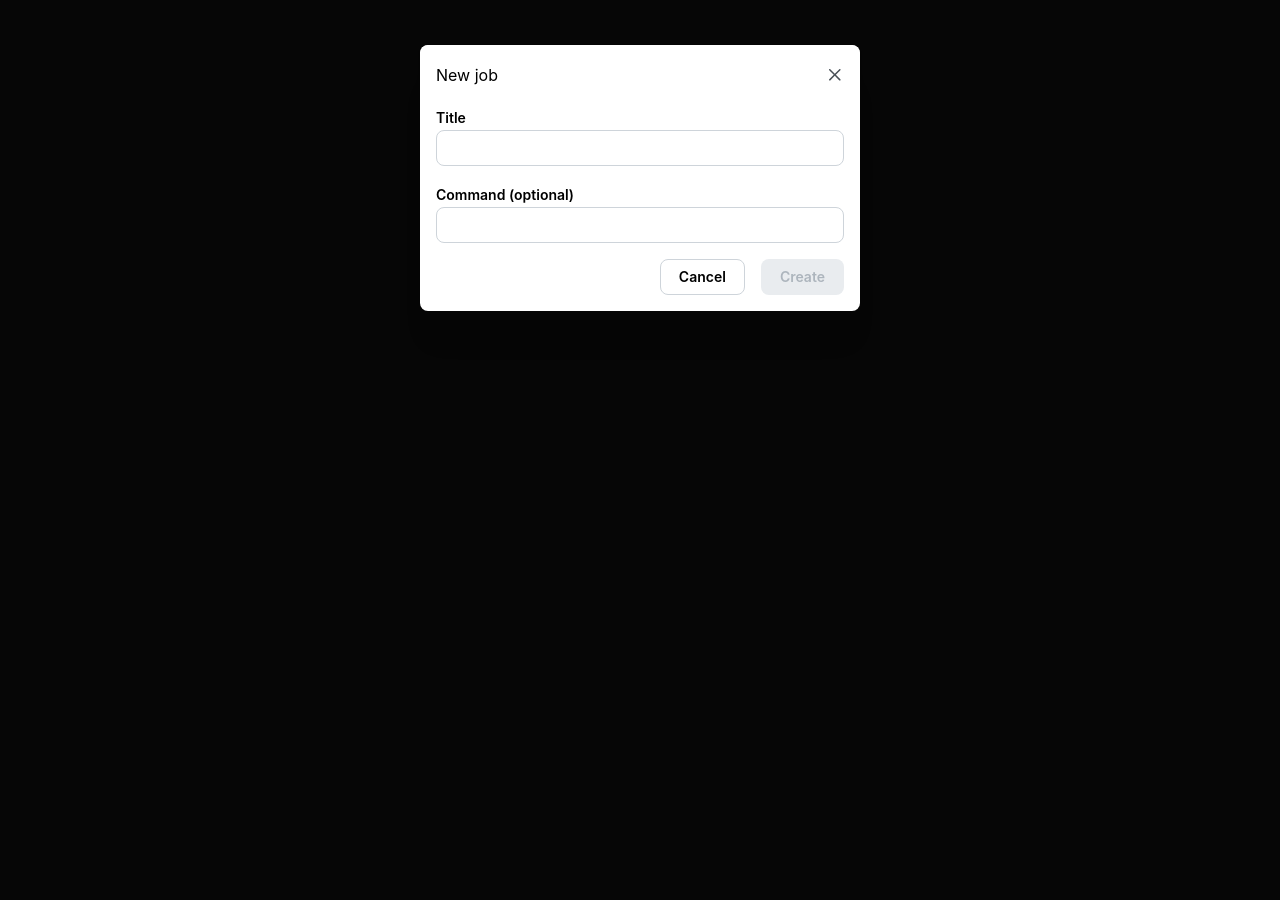
it: NewJobModal › shows a visible error message when creation fails with a 400
Type "Build" into the field labelled "Title" at (640, 148), box left=436, top=130, right=844, bottom=166
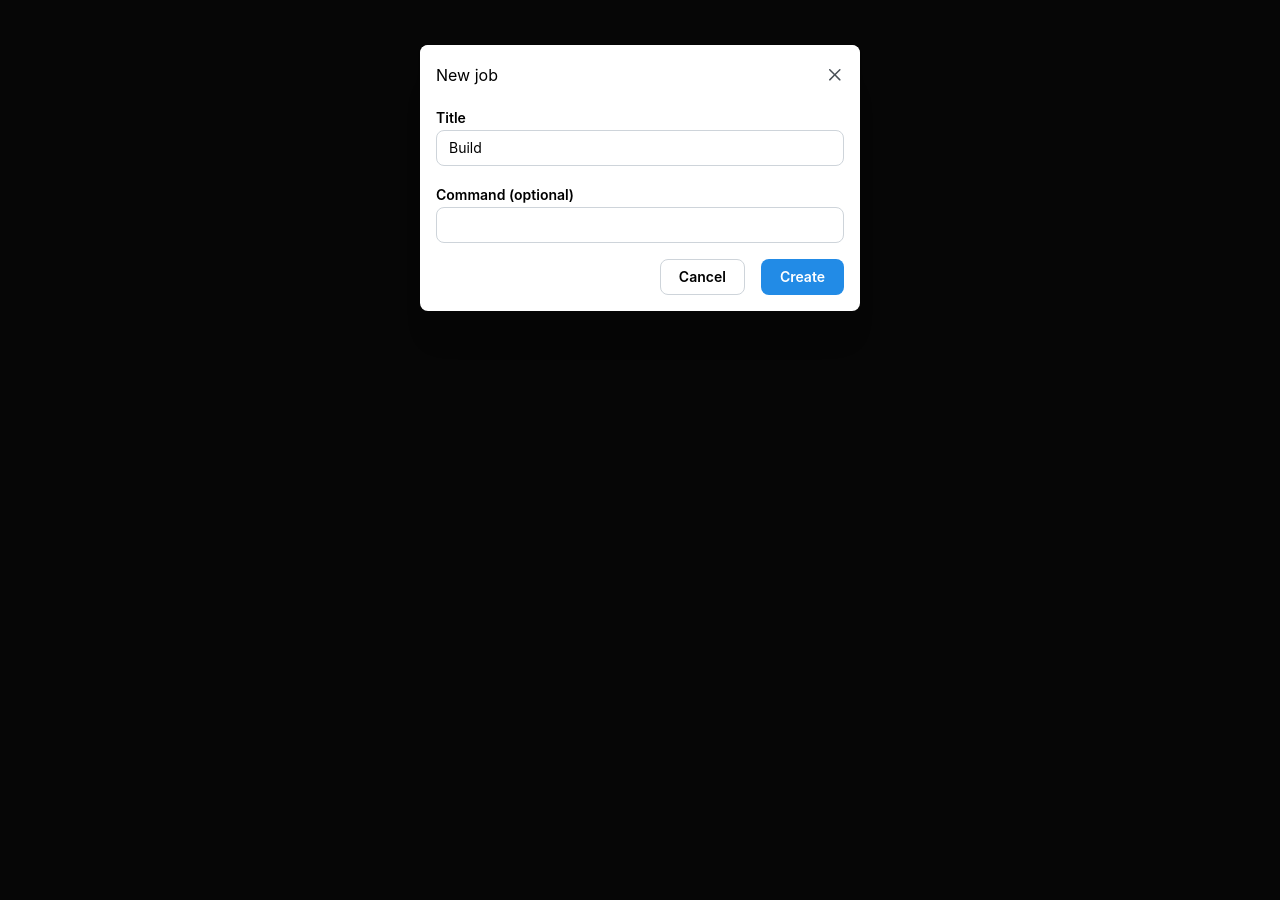
Click the button "Create" at (802, 277), box left=761, top=259, right=844, bottom=295
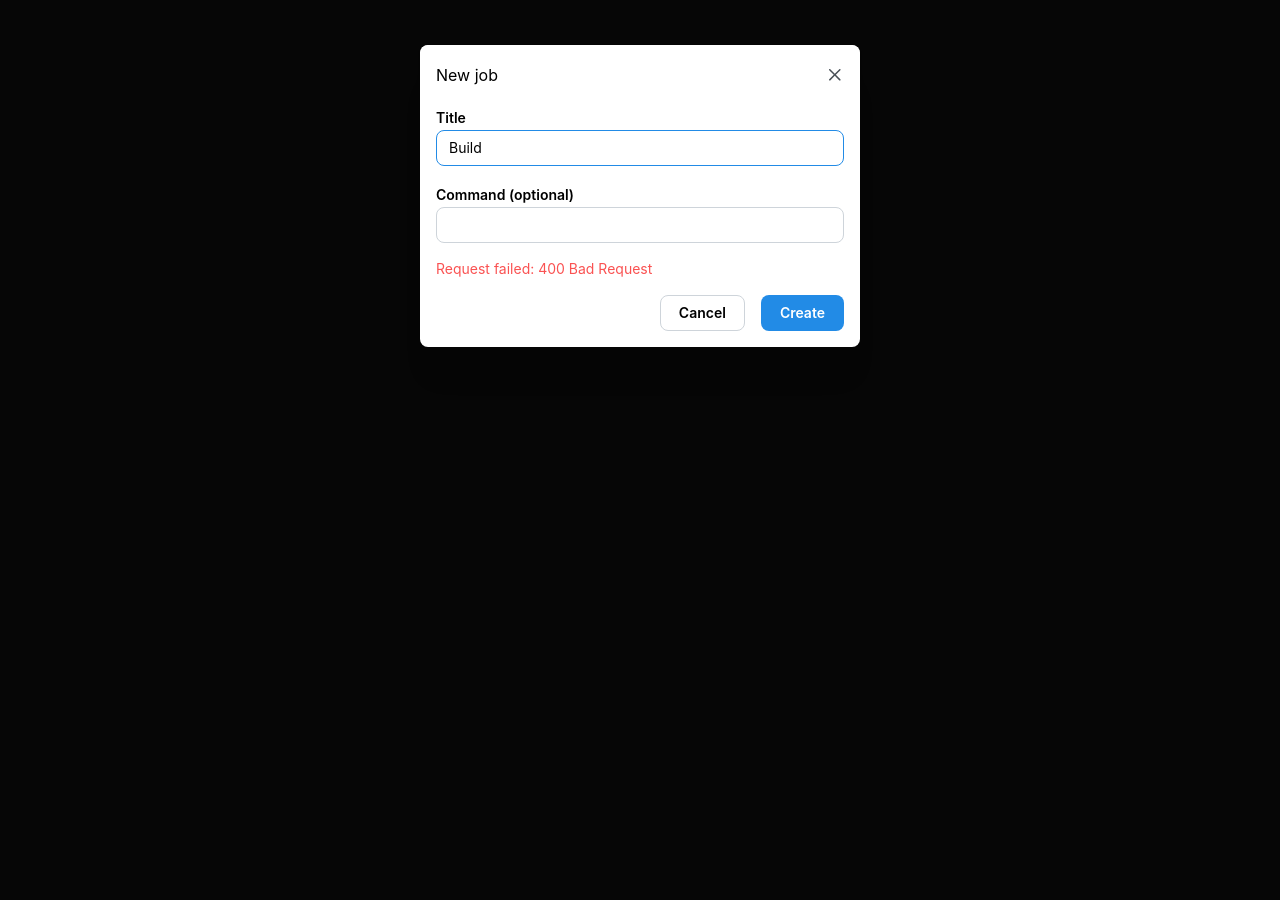
Expected: the text "Request failed: 400 Bad Request" is shown, left=436, top=260, right=652, bottom=277
